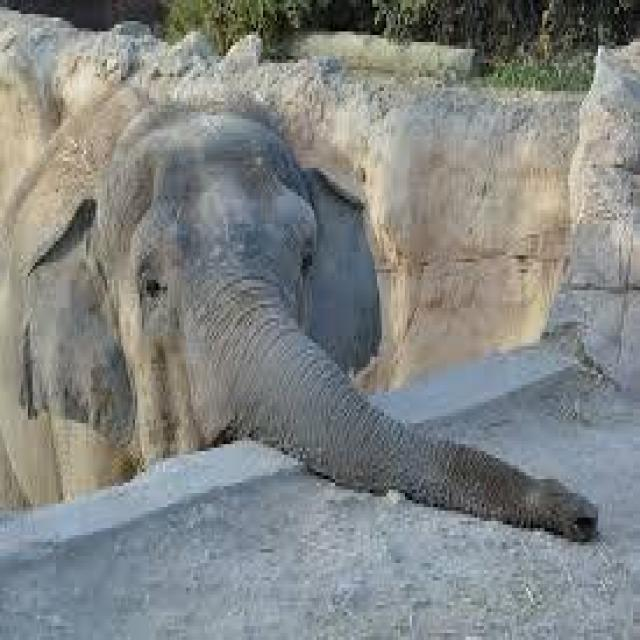Elephant: (0, 84, 600, 542)
